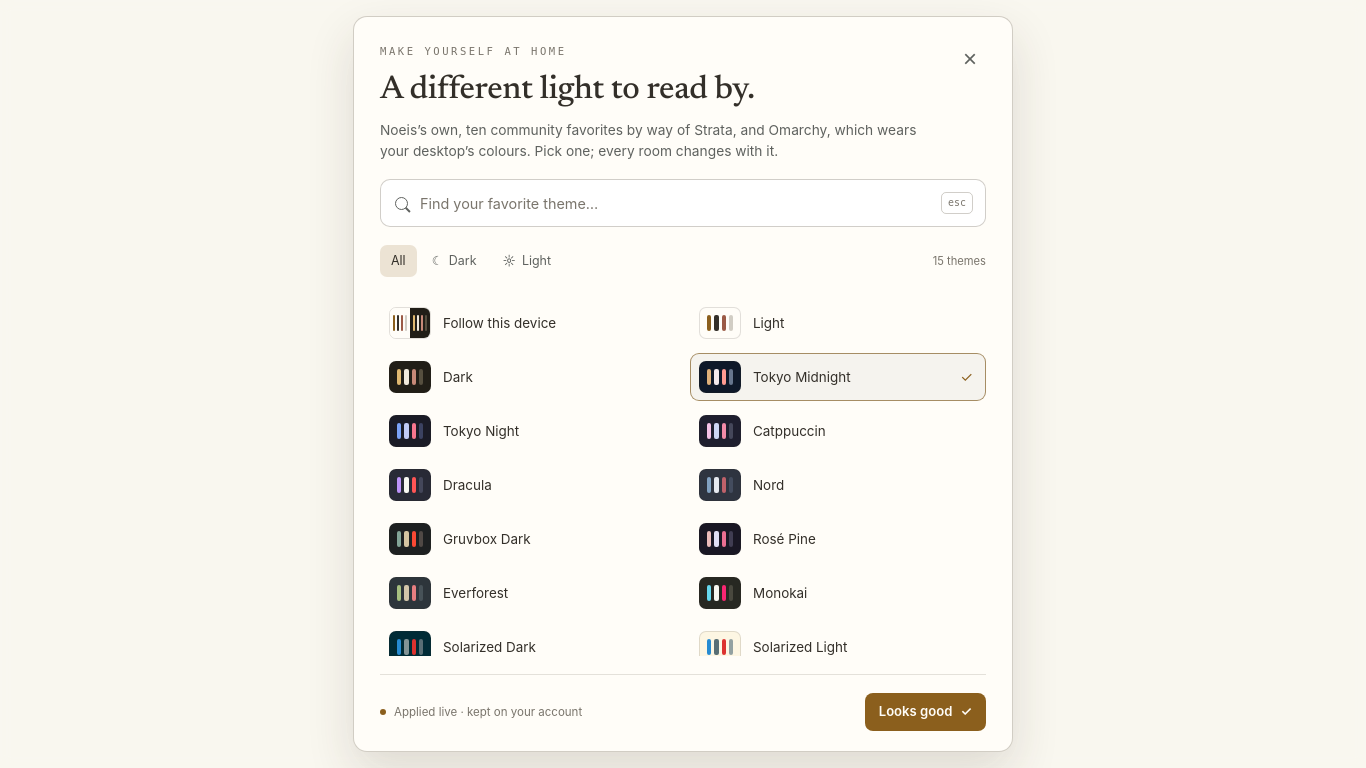
Scenario: ThemePicker › narrows by scheme and by name
Click the button "☼ Light" at point(527, 261), box top-left (492, 245), bottom-right (562, 277)
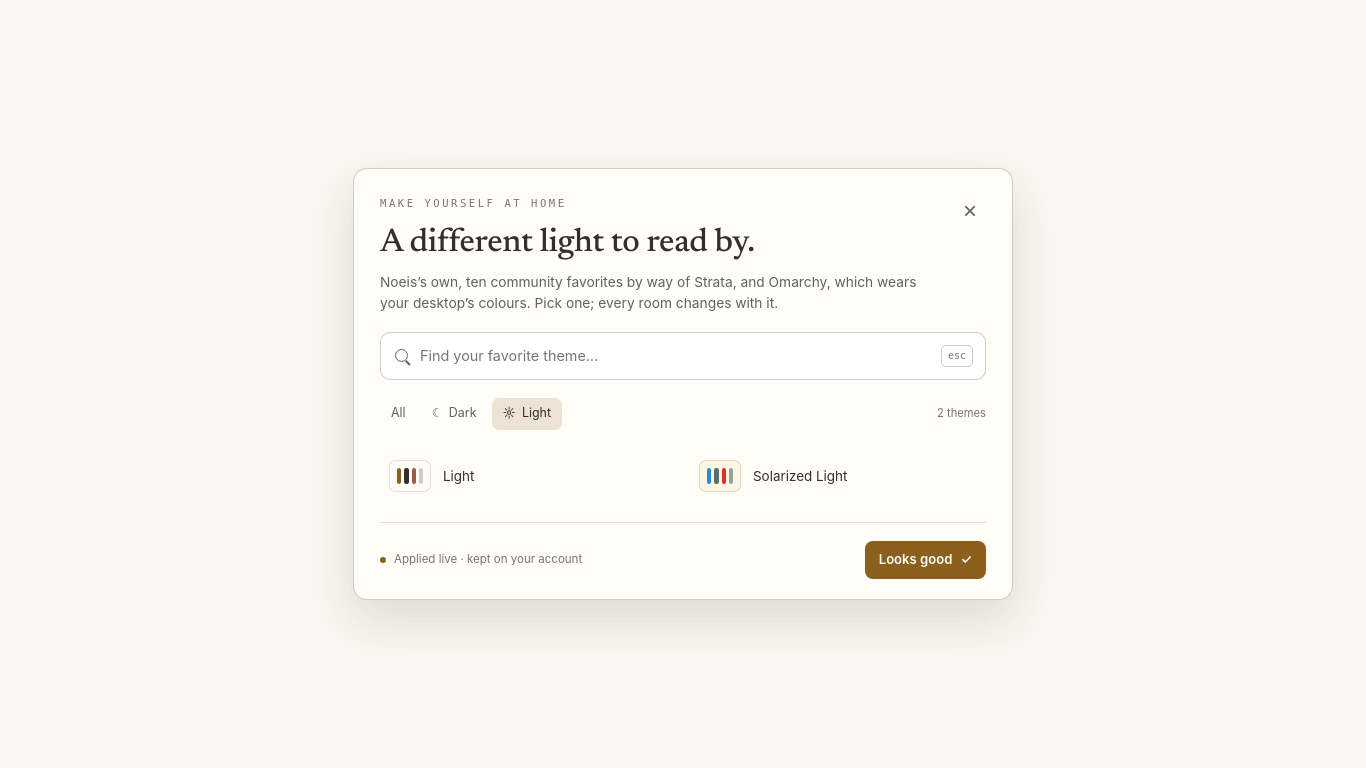
Expected: the radio buttons read "Light", "Solarized Light", in this order, top-left (380, 452), bottom-right (676, 500); top-left (690, 452), bottom-right (986, 500)
Expected: the text "2 themes" is shown, top-left (937, 404), bottom-right (986, 423)
Click the button "All" at point(398, 414), box top-left (380, 398), bottom-right (417, 430)
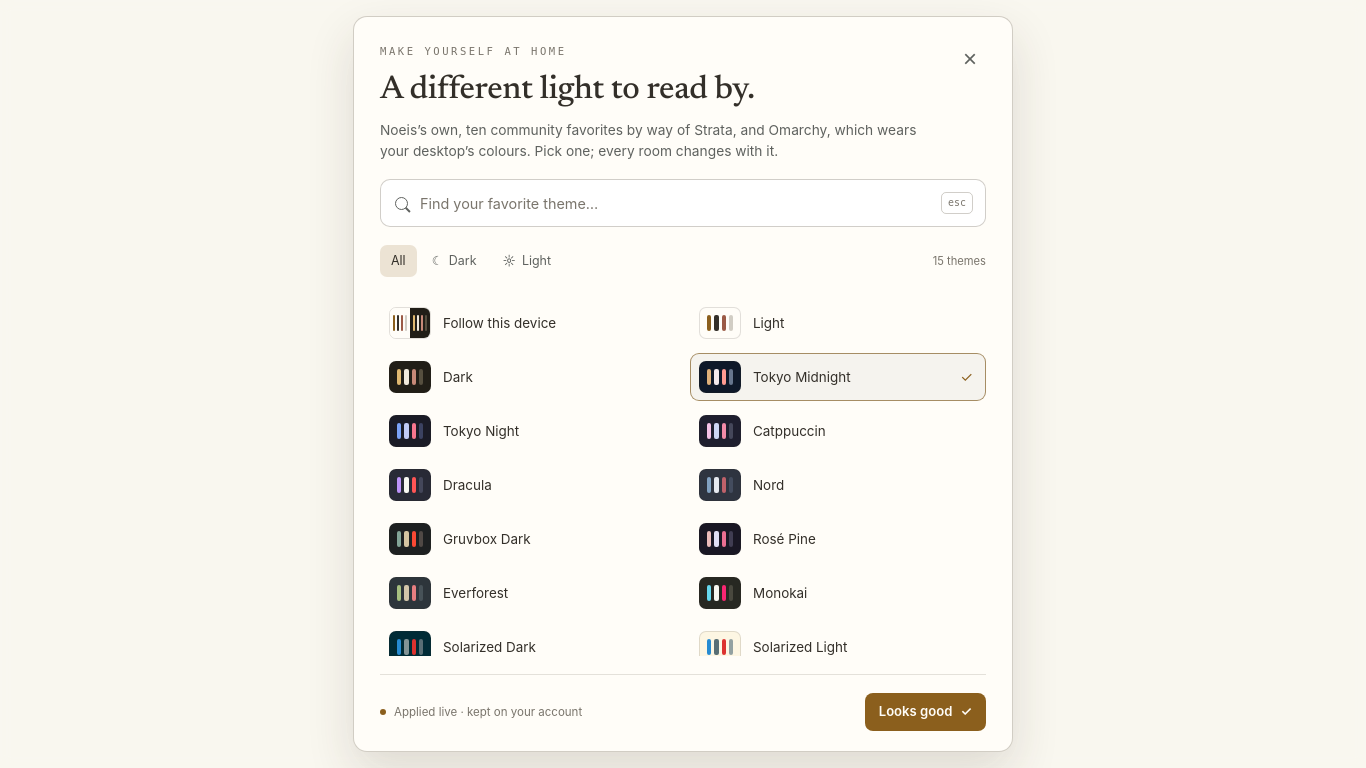
Type "rosé" into the search field named "Find a theme" at point(675, 203), box top-left (420, 192), bottom-right (929, 215)
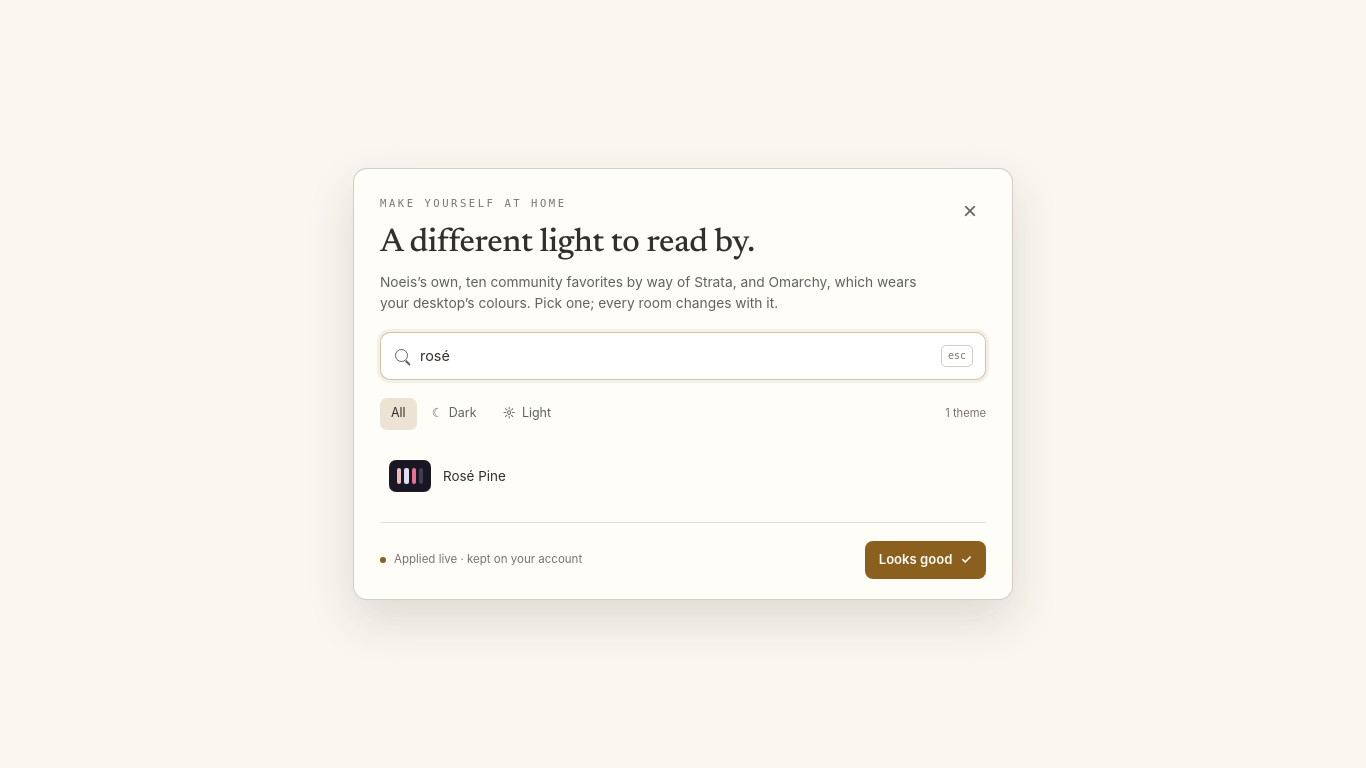
Expected: the radio buttons read "Rosé Pine", in this order, top-left (380, 452), bottom-right (676, 500)
